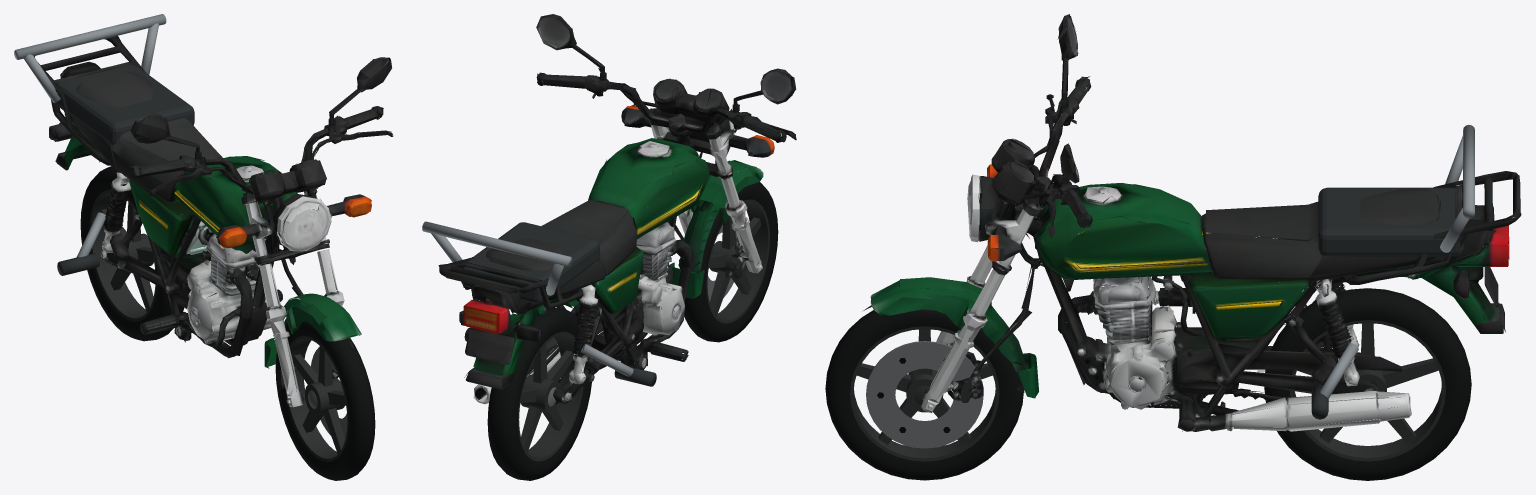
File: moto-passenger-0.glb
3 renders of one model, left to right at view 1: azimuth 30°, elevation 25°; view 2: azimuth 150°, elevation 25°; view 3: azimuth 270°, elevation 25°, orthographic. The views are drawn at different scales.
Parts seen in each view (by area): view 1: Frota_moto, Fork, Tyre_Front, Tyre_Rear, PassengerSeatCushion, PassengerGrabBar, PassengerFootrest_R, PassengerGrabSupport_R, PassengerPegSupport_R, PassengerGrabSupport_L; view 2: Frota_moto, Fork, Tyre_Rear, Tyre_Front, PassengerSeatCushion, PassengerGrabBar, PassengerPegSupport_R, PassengerFootrest_R; view 3: Frota_moto, Fork, Tyre_Front, Tyre_Rear, PassengerSeatCushion, PassengerGrabBar.
Boxes of the visible parts, left/top/right/bottom form: Frota_moto: left=34, top=35, right=297, bottom=358; Fork: left=129, top=57, right=393, bottom=407; Tyre_Front: left=275, top=321, right=375, bottom=480; Tyre_Rear: left=80, top=166, right=184, bottom=341; PassengerSeatCushion: left=56, top=64, right=194, bottom=145; PassengerGrabBar: left=14, top=14, right=166, bottom=59; PassengerFootrest_R: left=57, top=253, right=99, bottom=275; PassengerGrabSupport_R: left=24, top=54, right=60, bottom=102; PassengerPegSupport_R: left=76, top=212, right=105, bottom=257; PassengerGrabSupport_L: left=141, top=23, right=158, bottom=74; Frota_moto: left=438, top=116, right=709, bottom=404; Fork: left=536, top=14, right=796, bottom=298; Tyre_Rear: left=487, top=307, right=591, bottom=480; Tyre_Front: left=684, top=182, right=778, bottom=342; PassengerSeatCushion: left=461, top=222, right=599, bottom=303; PassengerGrabBar: left=422, top=221, right=572, bottom=266; PassengerPegSupport_R: left=581, top=344, right=633, bottom=376; PassengerFootrest_R: left=614, top=367, right=656, bottom=386; Frota_moto: left=1019, top=167, right=1521, bottom=431; Fork: left=862, top=14, right=1092, bottom=412; Tyre_Front: left=825, top=310, right=1023, bottom=480; Tyre_Rear: left=1264, top=288, right=1471, bottom=480; PassengerSeatCushion: left=1318, top=187, right=1463, bottom=256; PassengerGrabBar: left=1463, top=125, right=1474, bottom=218.
Size of the model in its own units: 1.03 by 1.29 by 2.06.
Materials: 3 (1 with a texture image).
